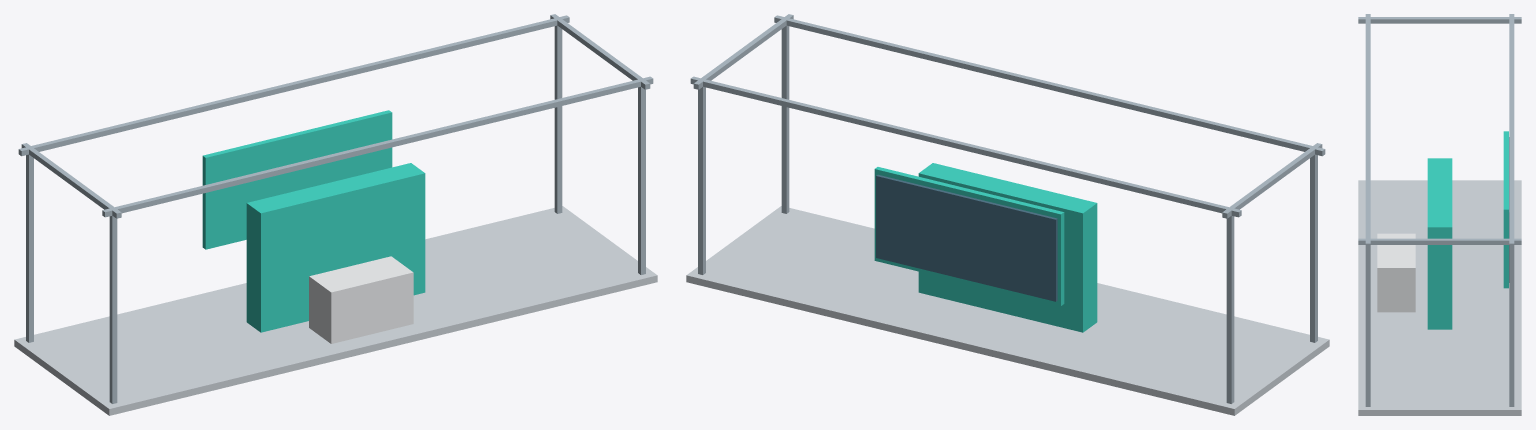
The picture shows the model from 3 angles, left to right: view 1: azimuth 30°, elevation 25°; view 2: azimuth 150°, elevation 25°; view 3: azimuth 270°, elevation 25°; orthographic projection. The views are drawn at different scales.
Parts seen in each view (by area): view 1: Exhibition Booth Concept; view 2: Exhibition Booth Concept; view 3: Exhibition Booth Concept.
Boxes of the visible parts, x1=… form: Exhibition Booth Concept: x1=14, y1=14, x2=657, y2=415; Exhibition Booth Concept: x1=686, y1=14, x2=1329, y2=415; Exhibition Booth Concept: x1=1358, y1=14, x2=1521, y2=415.
Bounding box in the file's own units: 10 × 3.49 × 3.
